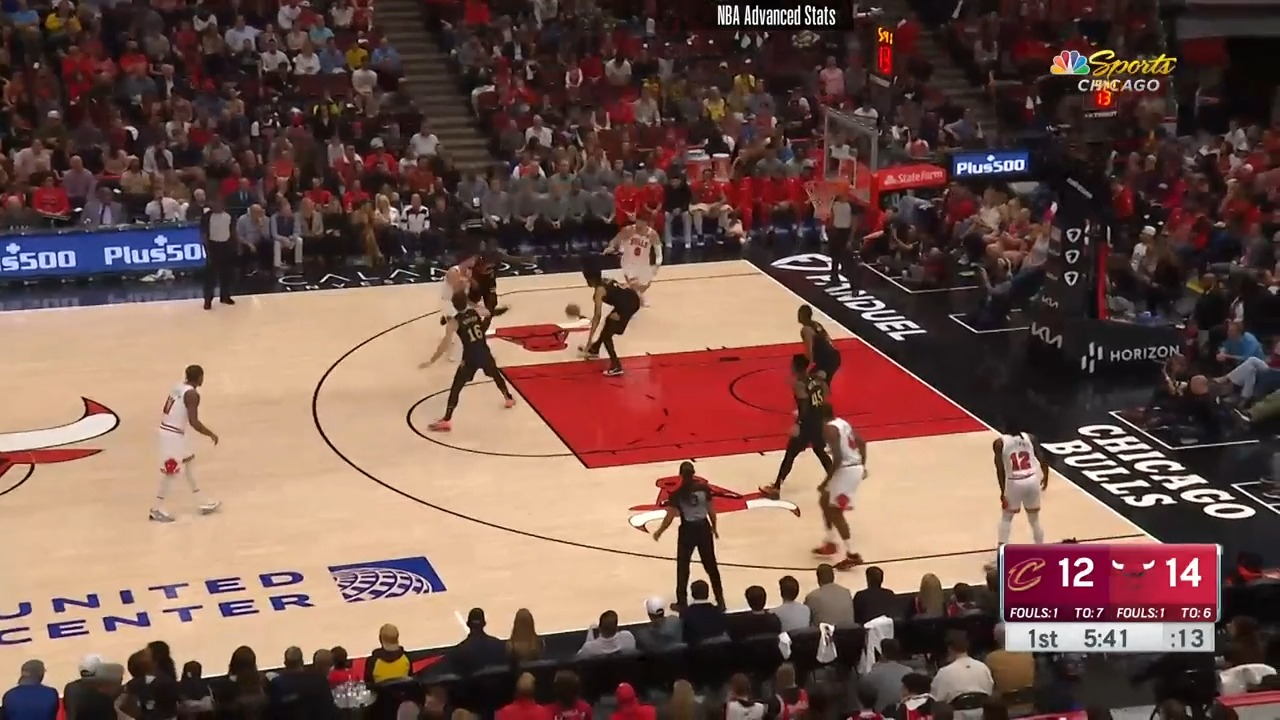net: (796, 171, 859, 232)
player: (411, 282, 522, 438), (140, 363, 223, 529), (980, 411, 1054, 582), (754, 356, 833, 504), (810, 396, 875, 569), (576, 263, 645, 387), (420, 253, 476, 366), (601, 215, 669, 304), (797, 300, 842, 399), (468, 231, 511, 326)
referee: (650, 460, 731, 618), (817, 188, 863, 300), (200, 199, 238, 312)
